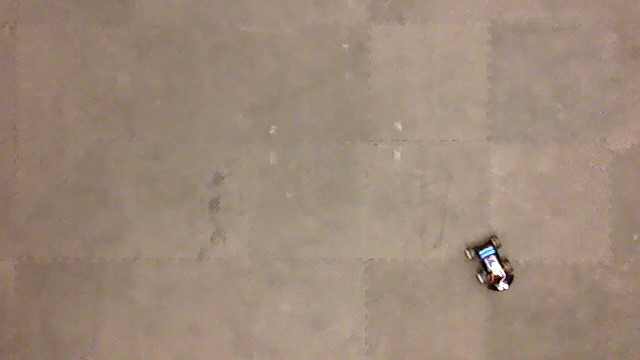Agent: (462, 234, 516, 293)
